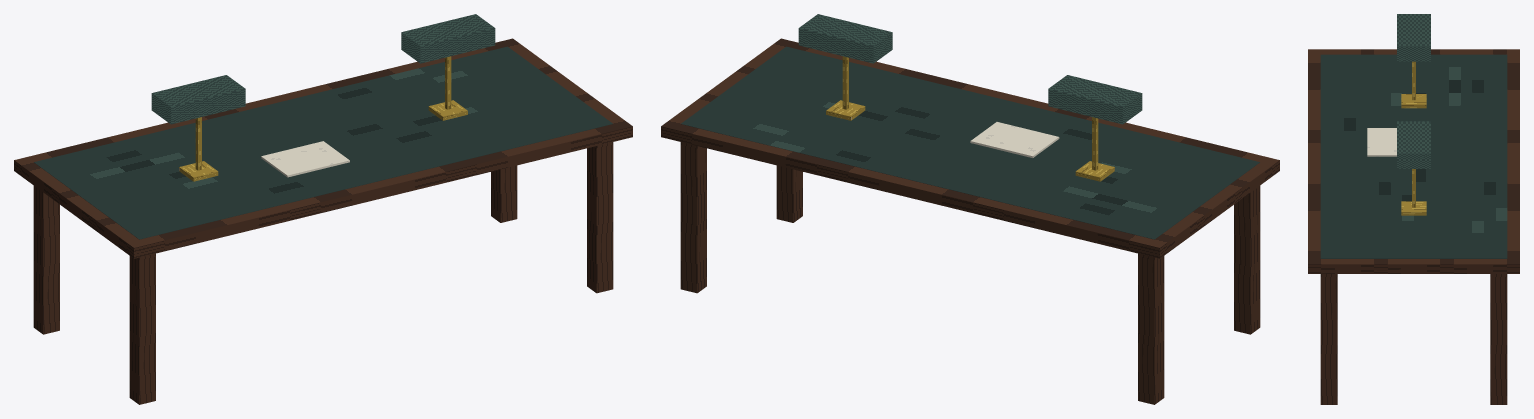
Rendered from COM_ReadingTable.glb.
3 renders of one model, left to right at view 1: azimuth 30°, elevation 25°; view 2: azimuth 150°, elevation 25°; view 3: azimuth 270°, elevation 25°, orthographic. The views are drawn at different scales.
Visible parts, largest first — view 1: COM_ReadingTable_Mesh; view 2: COM_ReadingTable_Mesh; view 3: COM_ReadingTable_Mesh.
Part boxes in pixels (bbox=[...]): COM_ReadingTable_Mesh: bbox=[14, 14, 632, 404]; COM_ReadingTable_Mesh: bbox=[661, 14, 1279, 404]; COM_ReadingTable_Mesh: bbox=[1308, 14, 1519, 404].
Size of what is drawn, in the model's own units: 2.4 by 1.14 by 1.
2 materials, 2 textured.
